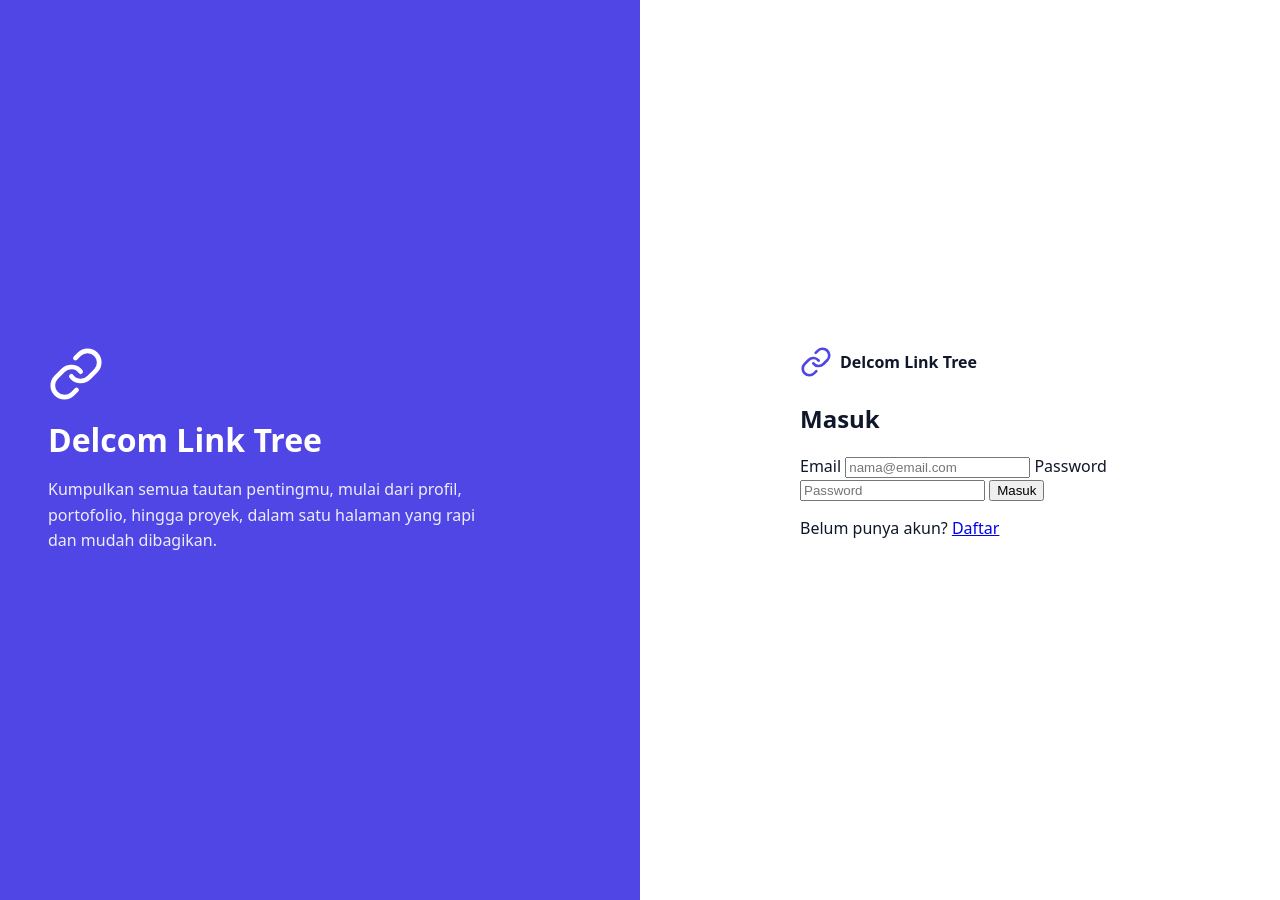
Scenario: LoginPage › menolak email tidak valid
Type "a@b" into the field labelled "Email" at (938, 467), box [845,456,1030,478]
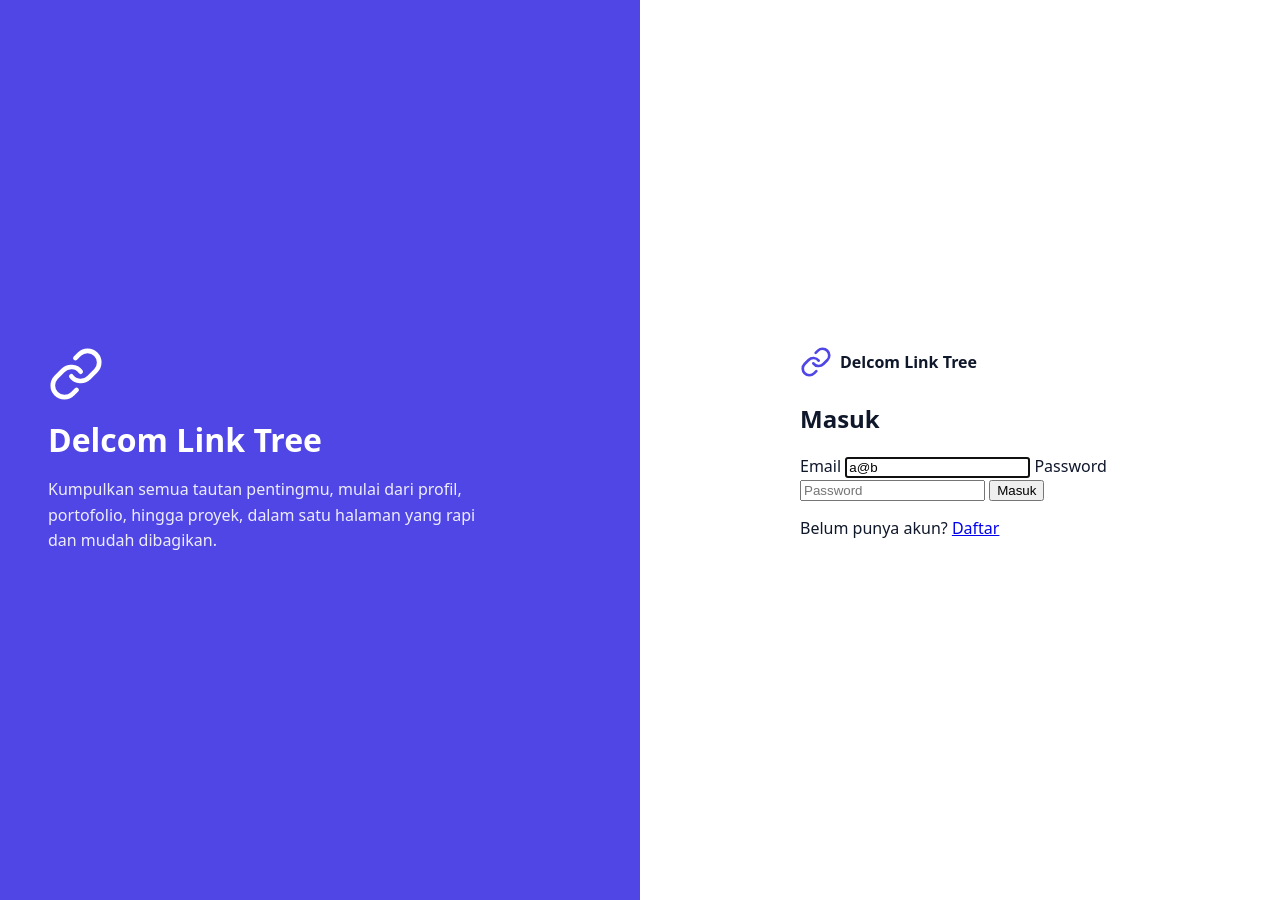
Type "rahasia" into the password field labelled "Password" at (892, 490), box [800,480,985,500]
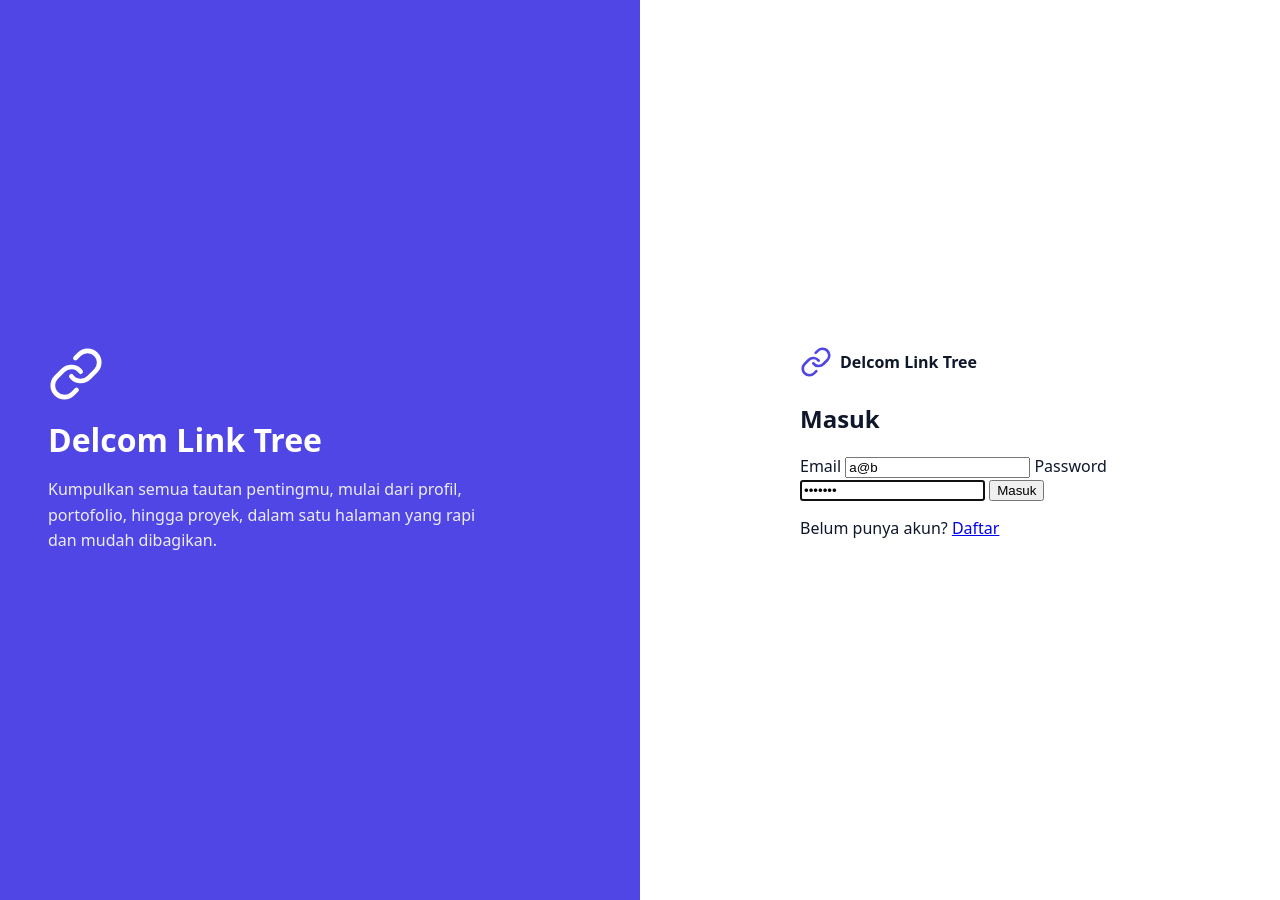
Click the button "Masuk" at (1017, 490), box [989,480,1044,500]
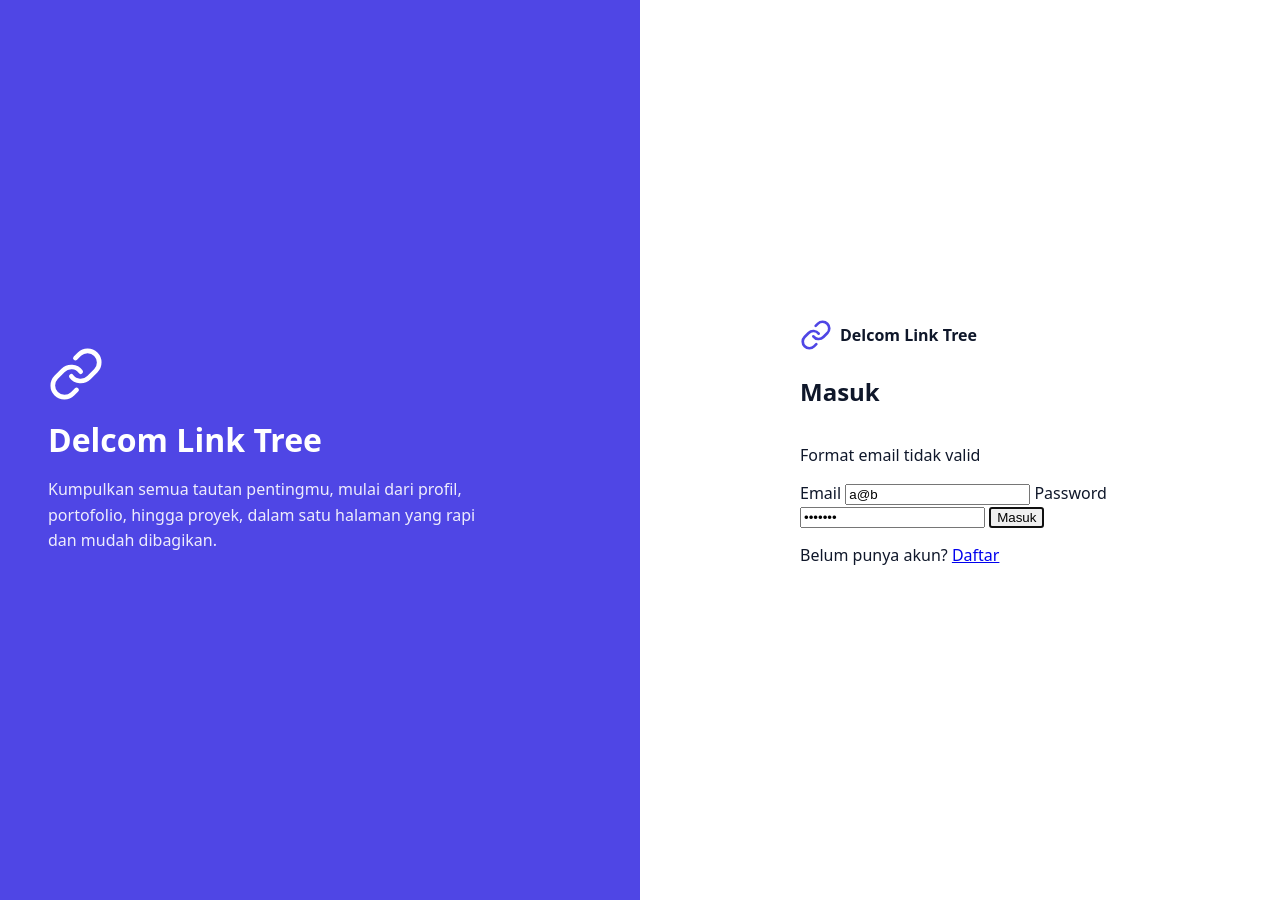
Expected: the text "Format email tidak valid" is shown, [800,444,980,466]
